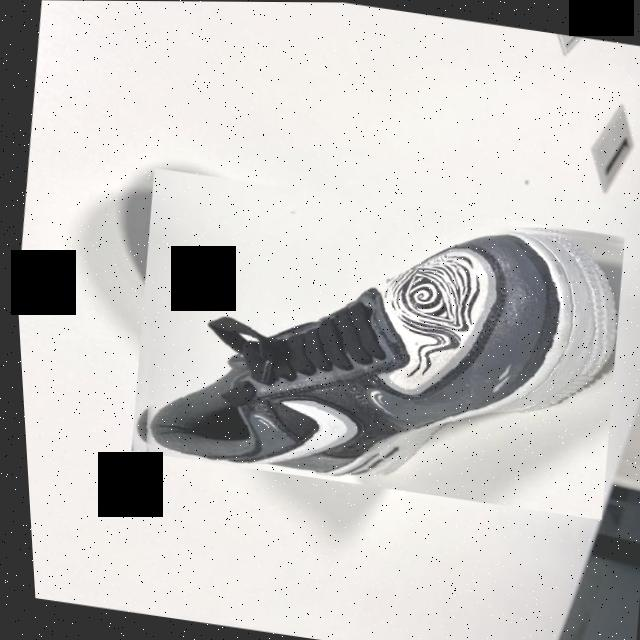shoe: (113, 168, 635, 520)
